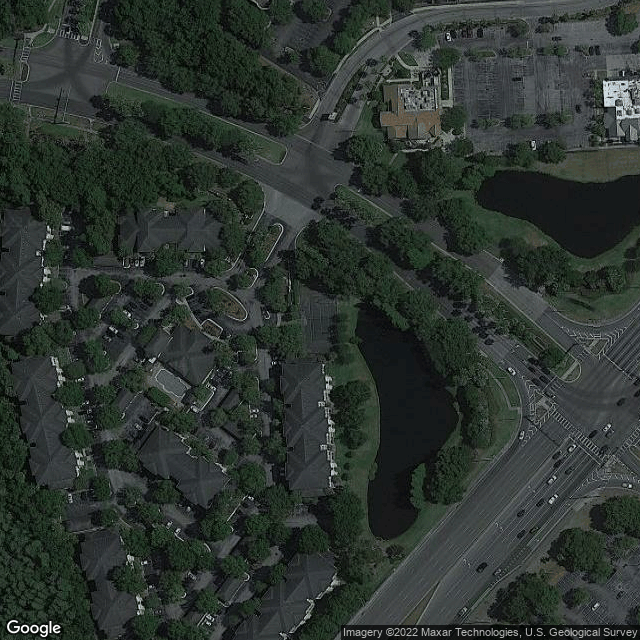Court: (309, 291, 336, 342)
